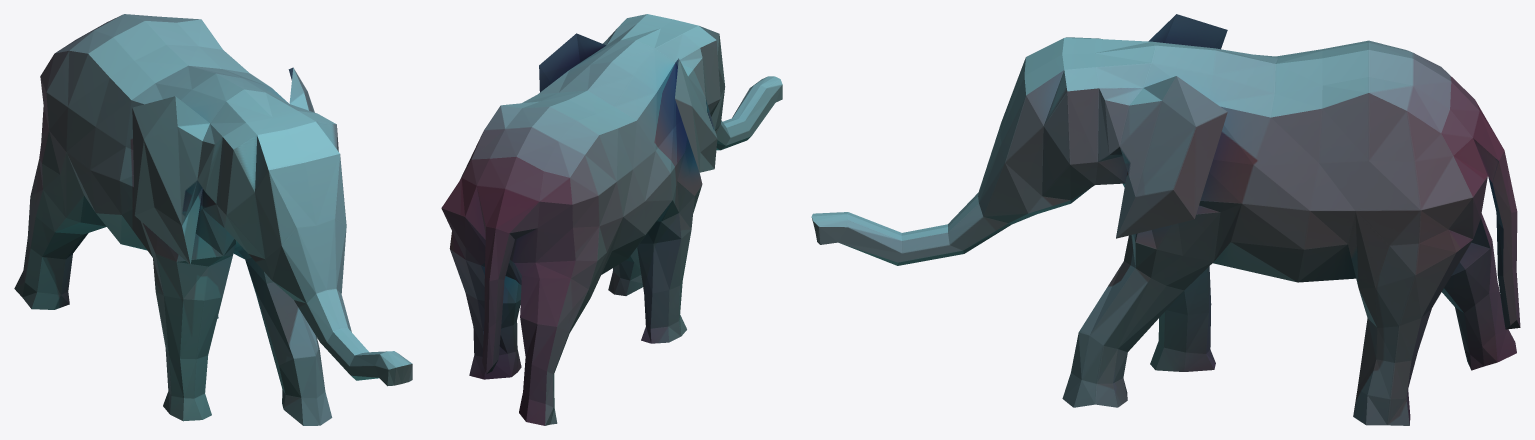
The model's file is elephant.glb.
3 views of the same model, side by side, from view 1: azimuth 30°, elevation 25°; view 2: azimuth 150°, elevation 25°; view 3: azimuth 270°, elevation 25° (orthographic). The views are drawn at different scales.
Visible parts, largest first — view 1: Object_3; view 2: Object_3; view 3: Object_3.
Boxes of the visible parts, left/top/right/bottom form: Object_3: left=14, top=14, right=412, bottom=425; Object_3: left=441, top=14, right=782, bottom=425; Object_3: left=811, top=14, right=1520, bottom=425.
Size of the model in its own units: 0.5665 by 0.9413 by 1.77.
1 material, 1 textured.
